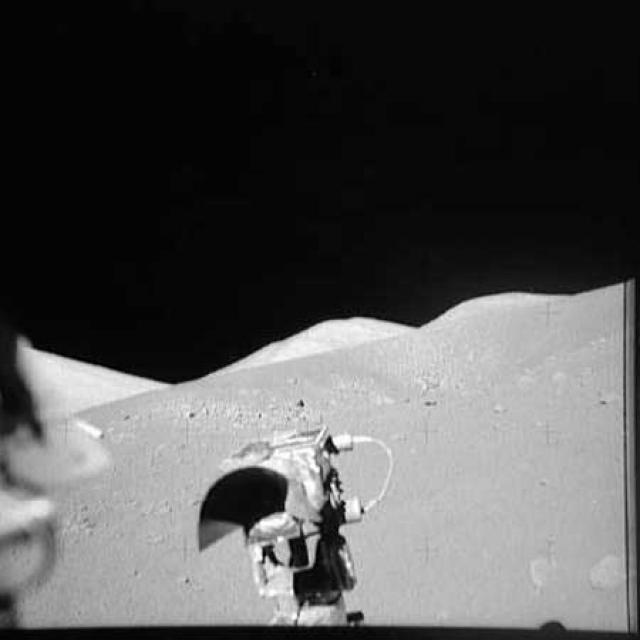artifact: (172, 421, 407, 628), (0, 320, 103, 629)
crater: (128, 302, 632, 422)
